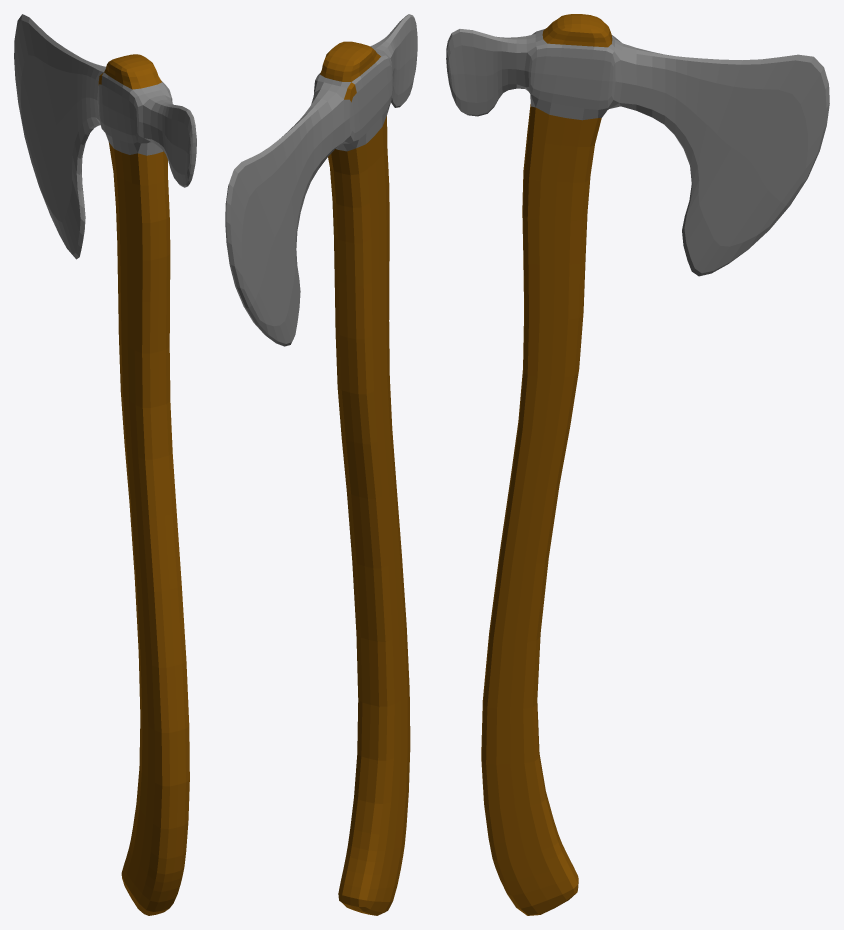
The model's file is machado.fbx.
3 renders of one model, left to right at view 1: azimuth 30°, elevation 25°; view 2: azimuth 150°, elevation 25°; view 3: azimuth 270°, elevation 25°, orthographic. The views are drawn at different scales.
Parts seen in each view (by area): view 1: Cubo; view 2: Cubo; view 3: Cubo.
Part boxes in pixels (left/top/right/bottom): Cubo: left=14, top=14, right=196, bottom=915; Cubo: left=225, top=14, right=417, bottom=915; Cubo: left=446, top=14, right=829, bottom=915.
Size of the model in its own units: 34.08 by 701 by 273.
